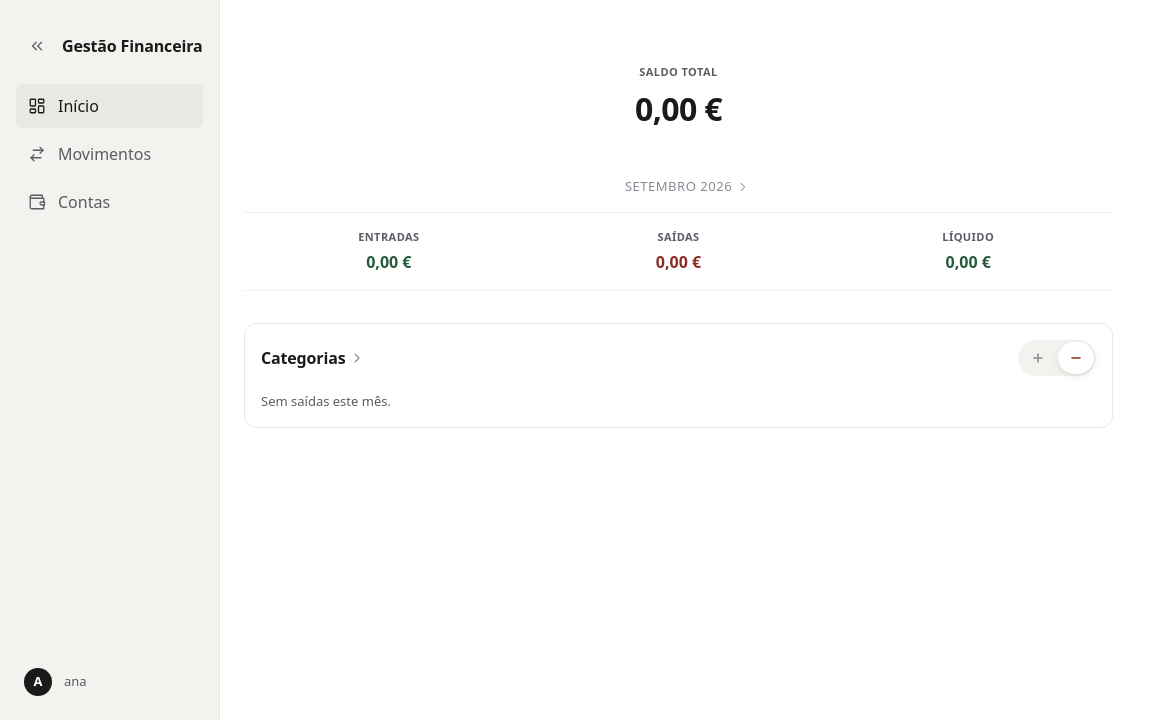
Scenario: Moldura da aplicação › recolhe e expande a barra lateral, guardando a preferência
Click the button named "Recolher menu" at (37, 46), box [24,33,50,59]
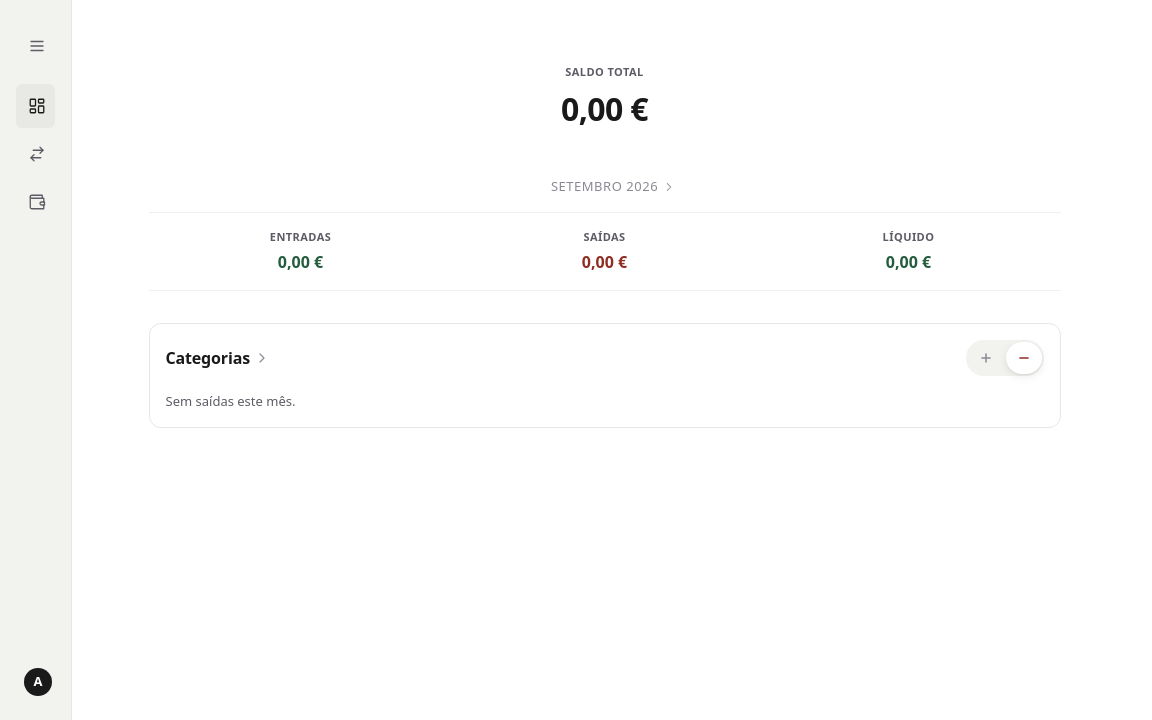
Now the button named "Expandir menu" is shown
Click the button named "Expandir menu" at (37, 46), box [24,33,50,59]
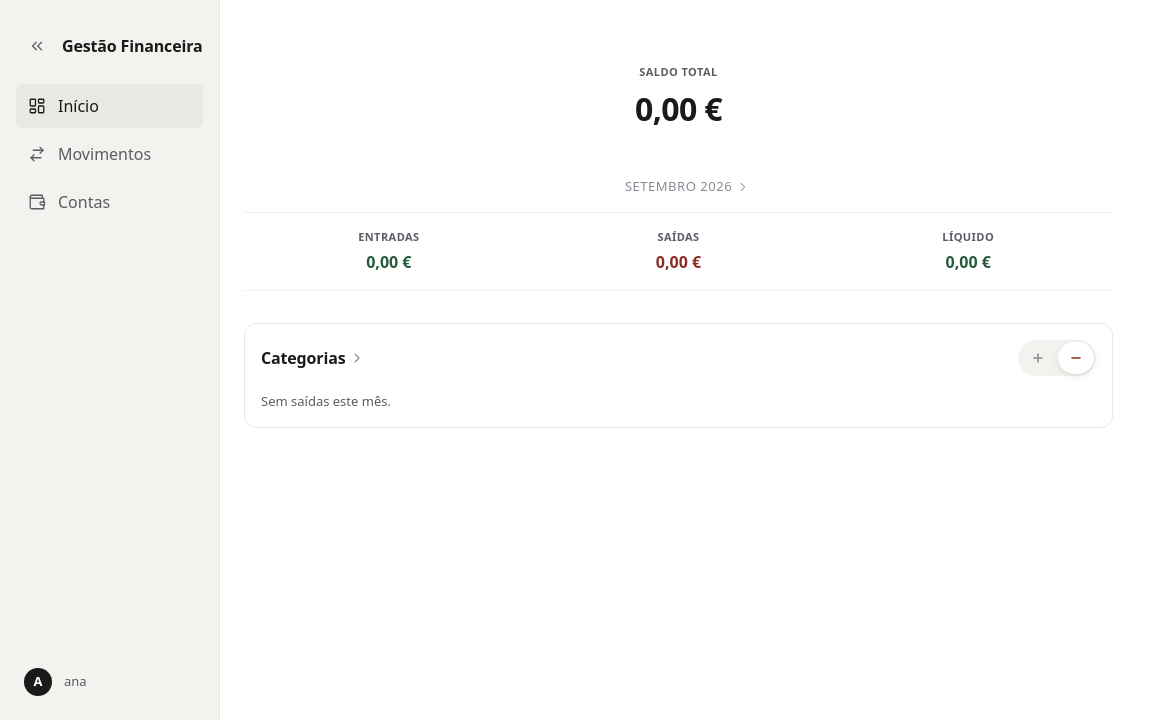
Now the button named "Recolher menu" is shown, box [24,33,50,59]
